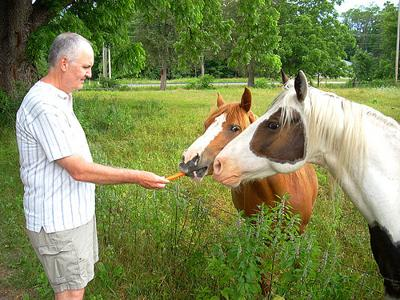person: (14, 30, 169, 300)
